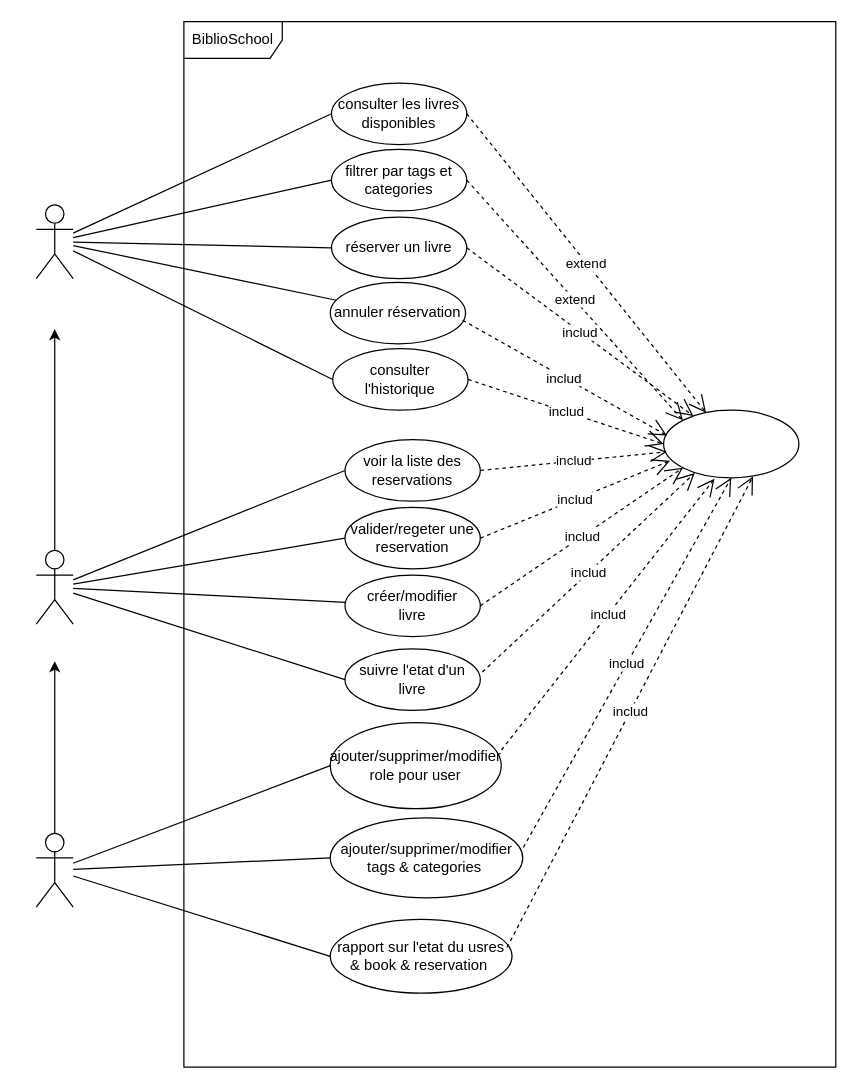
Image size: 857x1089. Some labels were removed from this diagram. Each missing label, with the centre of its shape:
Admin: [54,869]
Apprenant: [54,241]
Gerant: [54,586]
login: [730,443]
